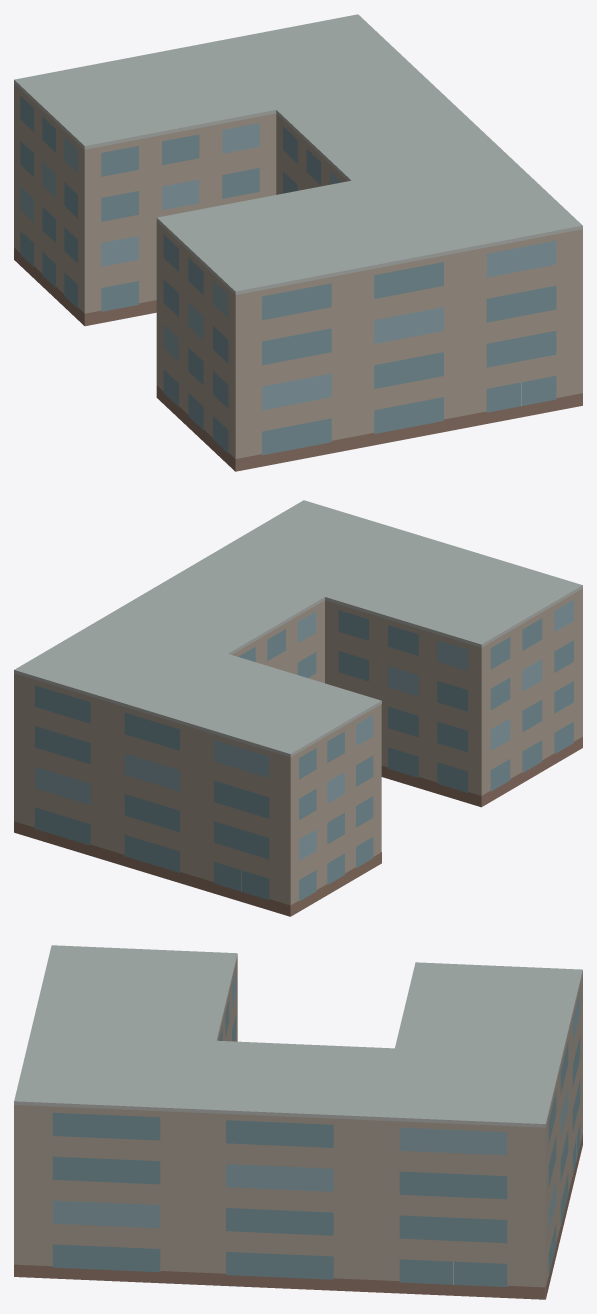
Rendered from residential-bea89ef1-49d5-4a0d-9e58-78fe70d2169b.glb.
The picture shows the model from 3 angles, top to bottom: view 1: azimuth 30°, elevation 25°; view 2: azimuth 150°, elevation 25°; view 3: azimuth 270°, elevation 25°; orthographic projection. The views are drawn at different scales.
Visible parts, largest first — view 1: residential-bea89ef1-49d5-4a0d-9e58-78fe70d2169b.tmp; view 2: residential-bea89ef1-49d5-4a0d-9e58-78fe70d2169b.tmp; view 3: residential-bea89ef1-49d5-4a0d-9e58-78fe70d2169b.tmp.
Boxes of the visible parts, bbox=[...] form: residential-bea89ef1-49d5-4a0d-9e58-78fe70d2169b.tmp: bbox=[14, 14, 582, 471]; residential-bea89ef1-49d5-4a0d-9e58-78fe70d2169b.tmp: bbox=[14, 500, 582, 916]; residential-bea89ef1-49d5-4a0d-9e58-78fe70d2169b.tmp: bbox=[14, 945, 582, 1299].
Size of the model in its own units: 26.68 by 12.2 by 35.83.
